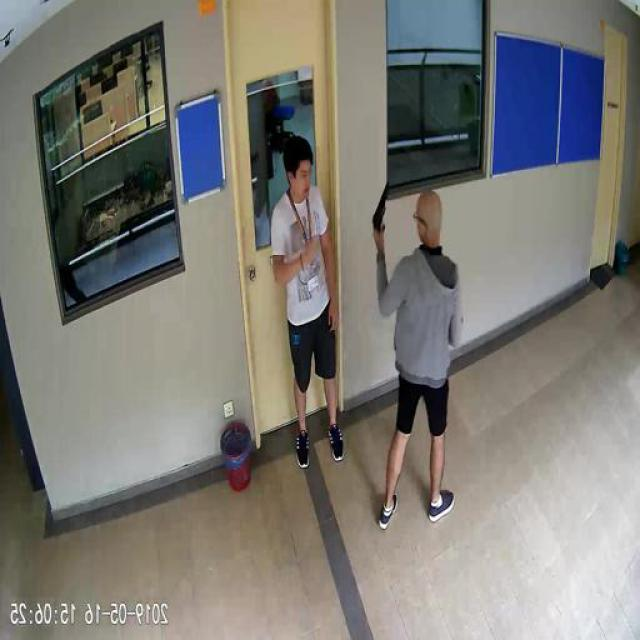Gun: (373, 180, 392, 232)
